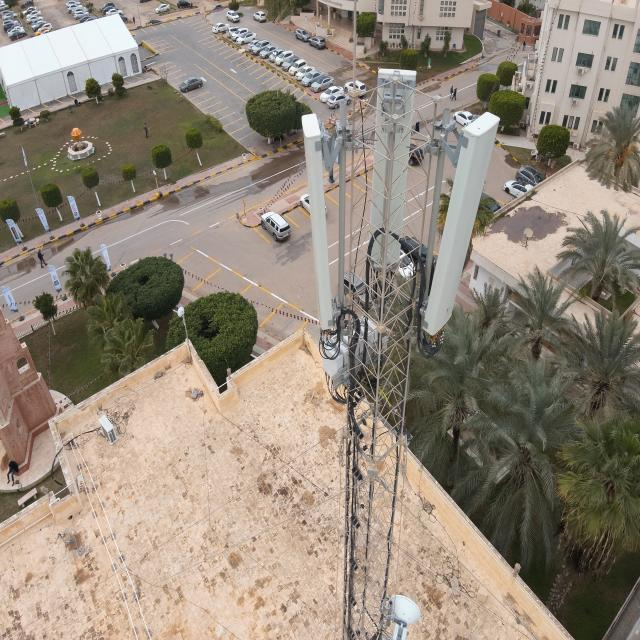antenna: (417, 108, 504, 340), (364, 64, 421, 275), (301, 103, 347, 341)
lighnig-rad: (352, 0, 358, 92)
microware-dish: (385, 593, 423, 640)
radio-unit: (322, 316, 389, 382)
